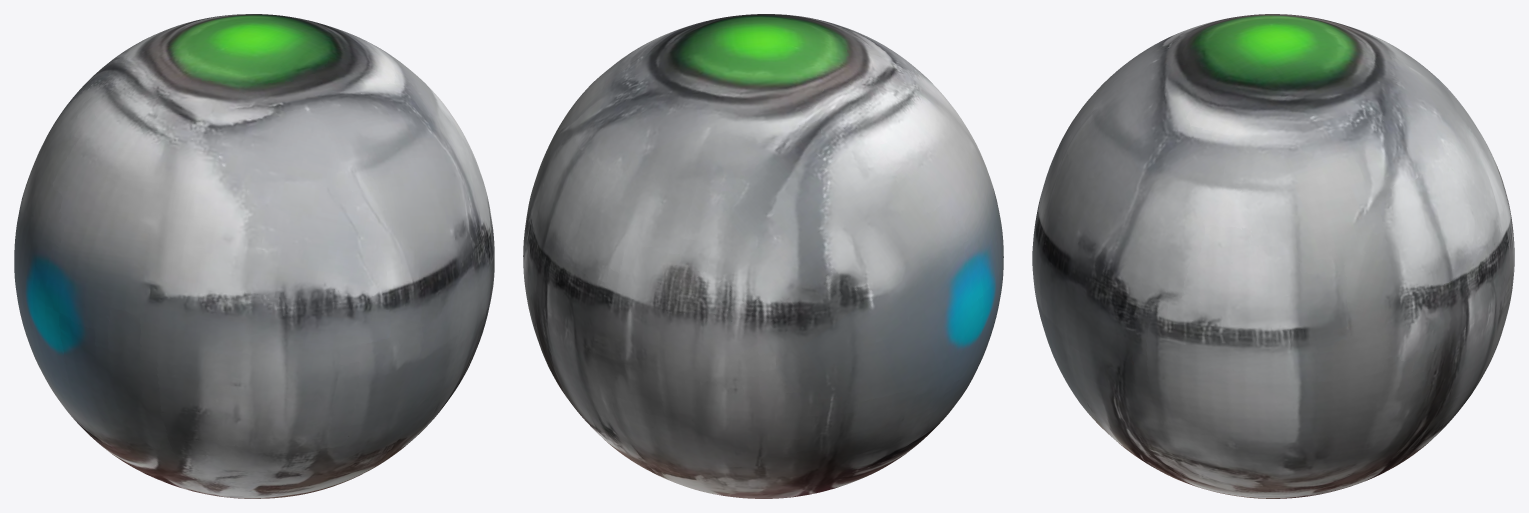
The model's file is c7_proton.glb.
3 renders of one model, left to right at view 1: azimuth 30°, elevation 25°; view 2: azimuth 150°, elevation 25°; view 3: azimuth 270°, elevation 25°, orthographic.
Parts seen in each view (by area): view 1: geometry_0; view 2: geometry_0; view 3: geometry_0.
Boxes of the visible parts, x1,y1,x2,y2 form: geometry_0: (14, 14, 494, 498); geometry_0: (523, 14, 1003, 498); geometry_0: (1032, 14, 1514, 498).
Bounding box in the file's own units: 0.08 × 0.0799 × 0.0799.
Materials: 1 (1 with a texture image).
